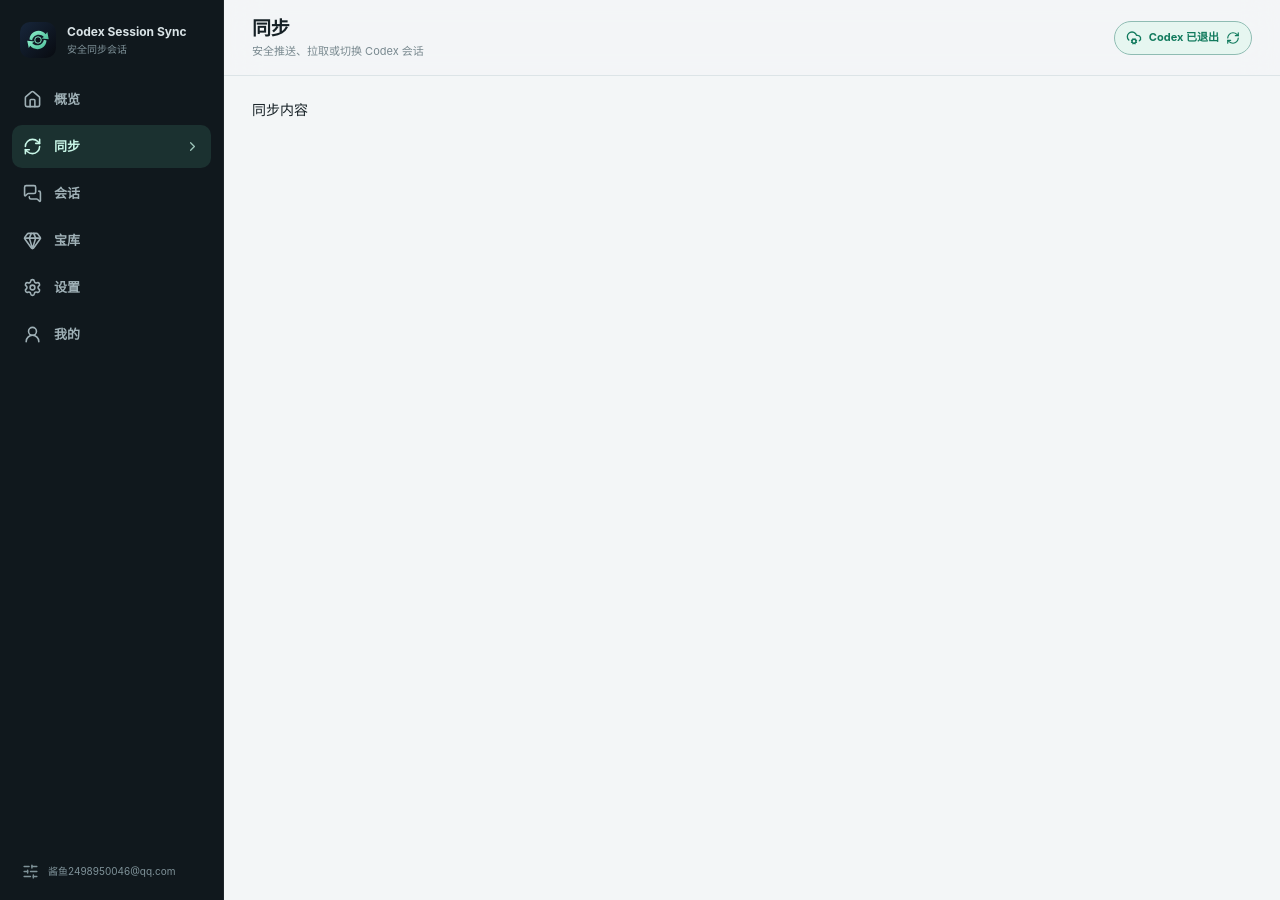
Scenario: sidebar navigation changes the active product page and remembers it
The width and height of the screenshot is (1280, 900).
Expected: the heading "同步" is shown, [252,17,289,40]
Expected: the text "同步内容" is shown, [252,101,308,118]
Click the link "会话".
click(52, 194)  # box [23,184,80,203]
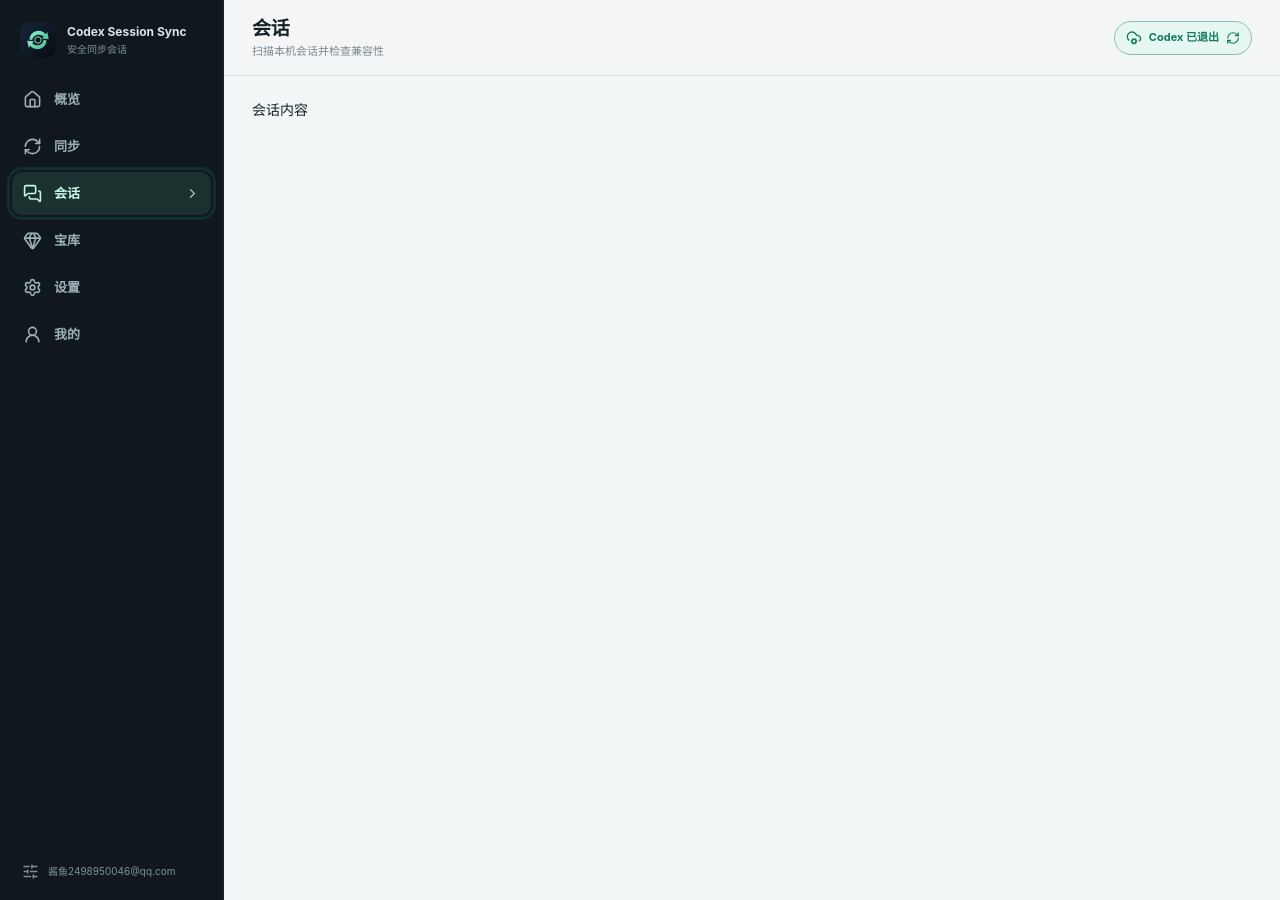
Now the heading "会话" is shown, box [252,17,289,40]
Now the text "会话内容" is shown, box [252,101,308,118]
